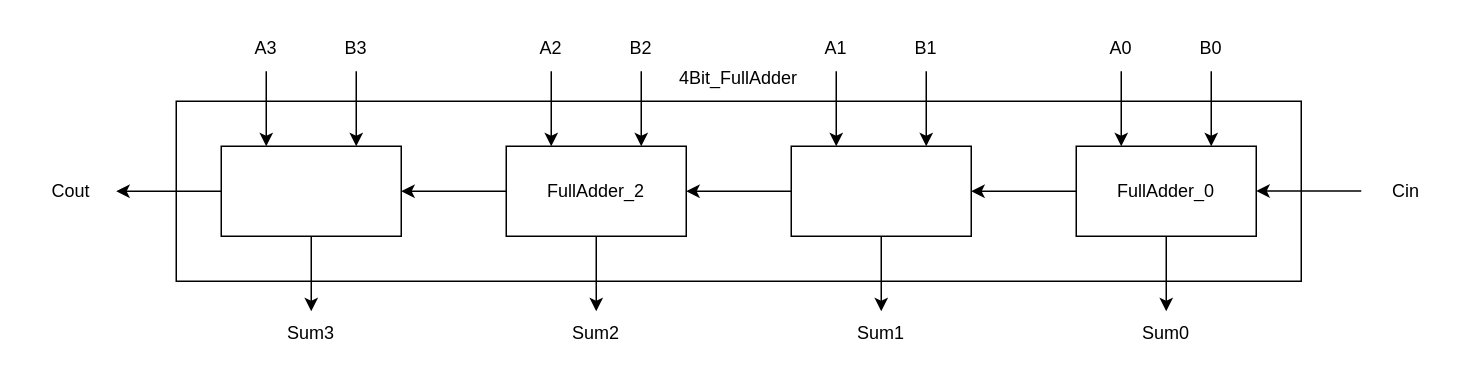
Image size: 1476x381. Some labels were removed from this diagram. The shapes that lost their labels are listed below. From the top down, each one's centre as x and y in pixels, then its label:
point 310,190: FullAdder_3
point 880,190: FullAdder_1
